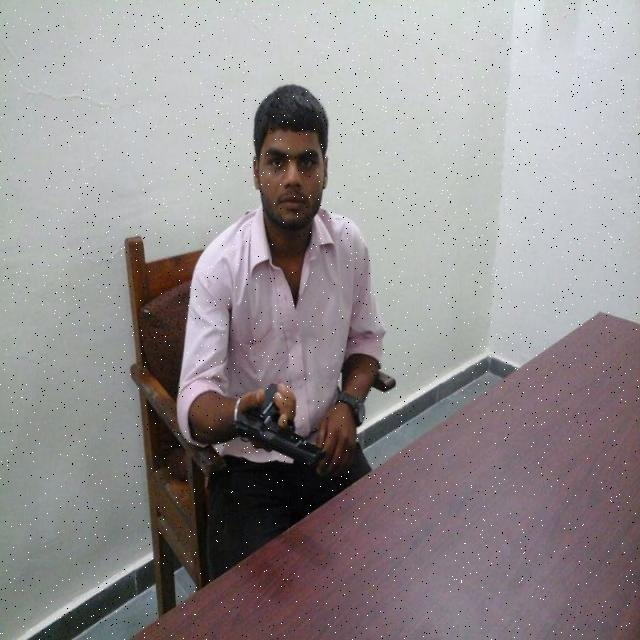gun: (224, 376, 333, 479)
